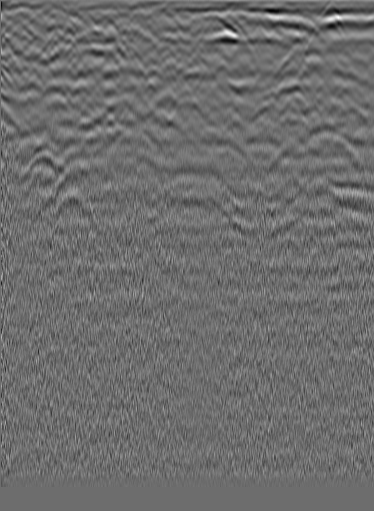가스: (0, 119, 373, 162)
